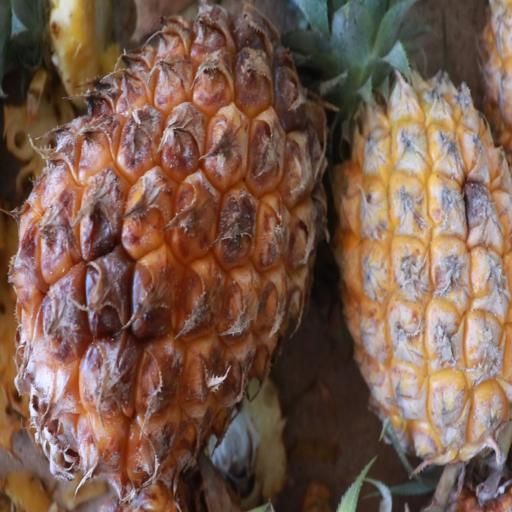Pineapple - v8 v1: (6, 9, 331, 498), (334, 0, 512, 478)
